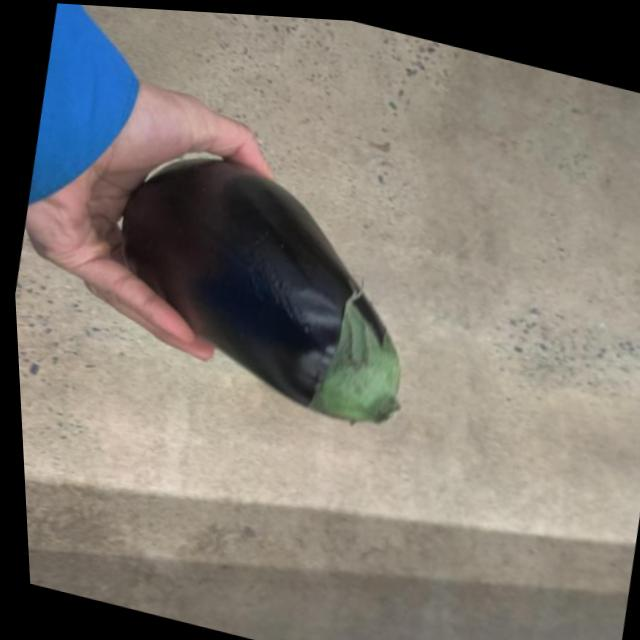Eggplant: (86, 131, 432, 429)
